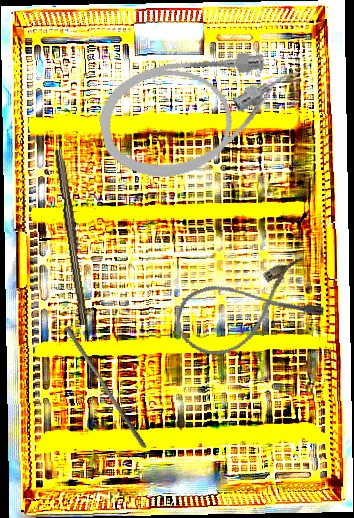Cannula: (90, 35, 314, 190), (167, 253, 328, 366)
Pusher: (60, 325, 152, 450)
Scalpel Handle: (51, 148, 94, 326)
